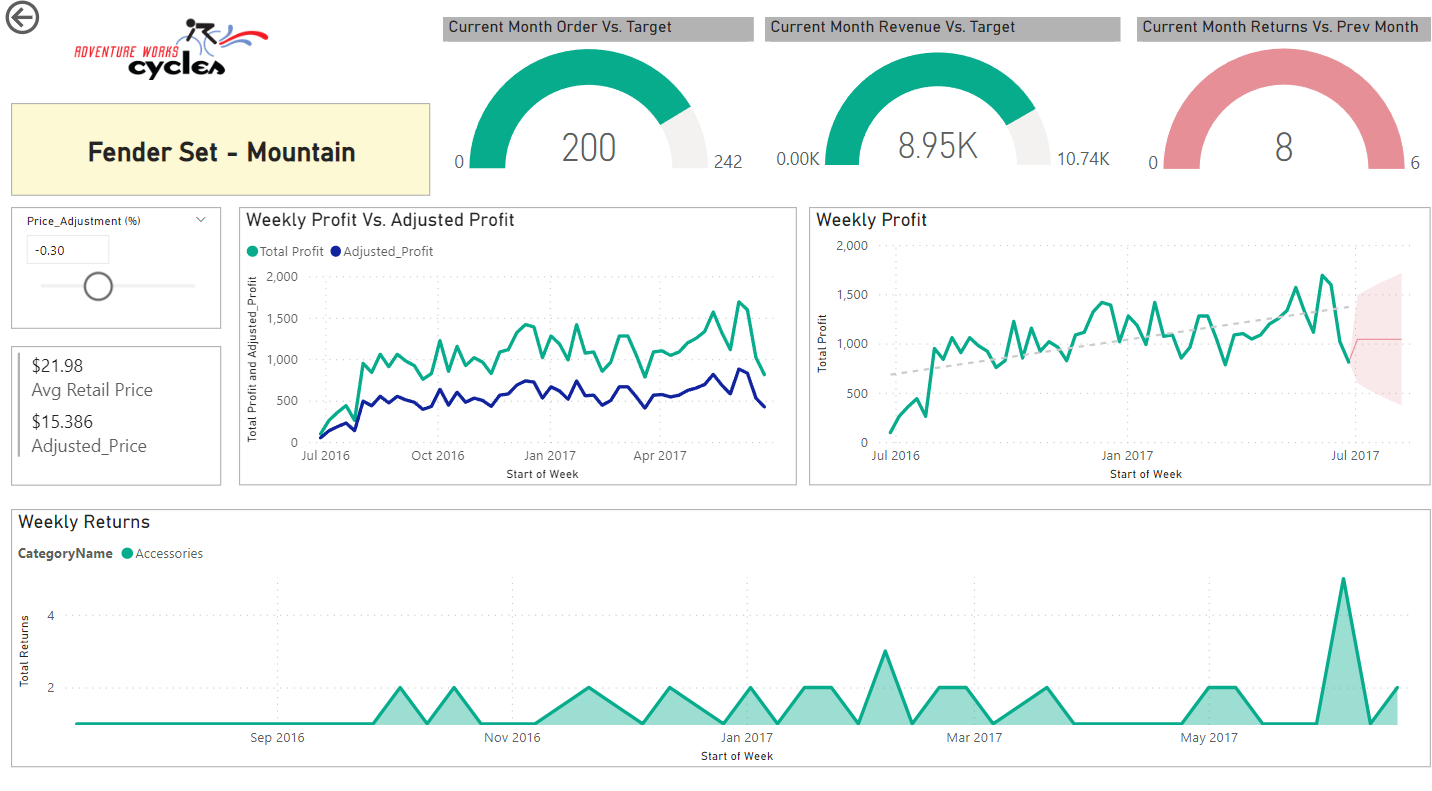

What the dashboard file says about the page in this screenshot:
{"tool":"powerbi","page":{"name":"Product_Detail","canvas":[1280,720],"ordinal":3},"visuals":[{"type":"image","box":[61.5,0,184.6,96],"z":0},{"type":"lineChart","title":"Weekly Profit","fields":{"Y":["AW_Sales.Total Profit"],"Category":["AW_Calendar_Lookup.Start of Week"]},"box":[723.7,189.5,556.2,249.4],"z":1000},{"type":"stackedAreaChart","title":"Weekly Returns","fields":{"Category":["AW_Calendar_Lookup.Start of Week"],"Y":["AW_Returns.Total Returns"],"Series":["AW_Product_Category_Lookup.CategoryName"]},"box":[9.8,459.6,1270.1,231],"z":2000},{"type":"gauge","title":"Current Month Order Vs. Target","fields":{"Y":["AW_Sales.Total Orders"],"MaxValue":["AW_Sales.Order Target"]},"box":[396.2,19.7,278.2,152],"z":3000},{"type":"gauge","title":"Current Month Revenue Vs. Target","fields":{"Y":["AW_Sales.Total Revenue"],"MaxValue":["AW_Sales.Revenue Target"]},"box":[684.2,19.7,317.5,152],"z":4000},{"type":"gauge","title":"Current Month Returns Vs. Prev Month","fields":{"Y":["AW_Returns.Total Returns"],"MaxValue":["AW_Returns.Prev Month Returns"]},"box":[1016.9,19.7,263,152],"z":5000},{"type":"card","fields":{"Values":["Min(AW_Product_Lookup.ProductName)"]},"box":[9.8,96.6,375.3,83.1],"z":6000},{"type":"actionButton","box":[0,0,100,40],"z":7000},{"type":"slicer","fields":{"Values":["Price_Adjustment (%).Price_Adjustment (%)"]},"box":[9.8,189.5,188.3,108.8],"z":8000},{"type":"multiRowCard","fields":{"Values":["AW_Product_Lookup.Avg Retail Price","AW_Product_Lookup.Adjusted_Price"]},"box":[9.8,314.2,188.3,124.7],"z":9000},{"type":"lineChart","title":"Weekly Profit Vs. Adjusted Profit","fields":{"Y":["AW_Sales.Total Profit","AW_Sales.Adjusted_Profit"],"Category":["AW_Calendar_Lookup.Start of Week"]},"box":[213.9,189.5,498.7,249.4],"z":10000}]}

Visuals, with their boxes in screenshot pixels (x1, y1, x2, y2), scaled from the page's 1280x720 canvas onto the 1432x791 screenshot:
image: Rect(69, 0, 275, 105)
"Weekly Profit" lineChart: Rect(810, 208, 1431, 482)
"Weekly Returns" stackedAreaChart: Rect(11, 505, 1431, 759)
"Current Month Order Vs. Target" gauge: Rect(443, 22, 754, 189)
"Current Month Revenue Vs. Target" gauge: Rect(765, 22, 1121, 189)
"Current Month Returns Vs. Prev Month" gauge: Rect(1138, 22, 1431, 189)
card - Min(AW_Product_Lookup.ProductName): Rect(11, 106, 431, 197)
actionButton: Rect(0, 0, 112, 44)
slicer - Price_Adjustment (%).Price_Adjustment (%): Rect(11, 208, 222, 328)
multiRowCard - AW_Product_Lookup.Avg Retail Price x AW_Product_Lookup.Adjusted_Price: Rect(11, 345, 222, 482)
"Weekly Profit Vs. Adjusted Profit" lineChart: Rect(239, 208, 797, 482)
